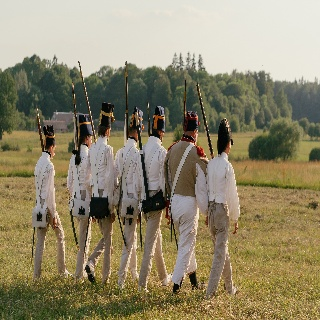rifle: (76, 59, 100, 143), (194, 80, 216, 159), (34, 106, 52, 153), (70, 81, 82, 150), (123, 60, 132, 145), (181, 78, 191, 119), (145, 100, 153, 136)
